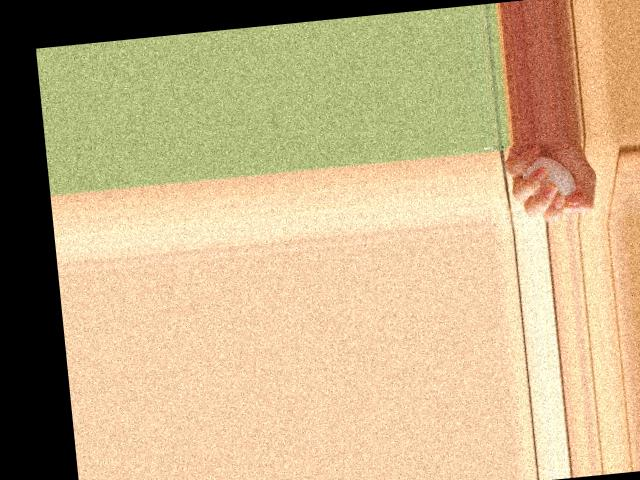egg: (520, 153, 576, 201)
